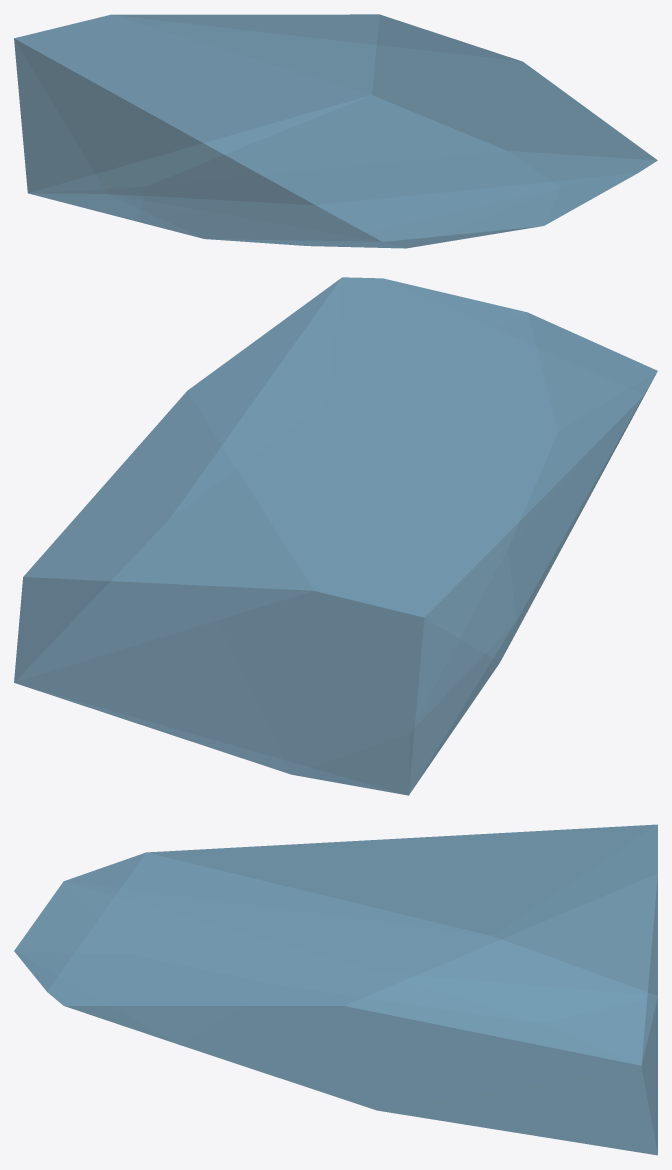
3 renders of one model, top to bottom at view 1: azimuth 30°, elevation 25°; view 2: azimuth 150°, elevation 25°; view 3: azimuth 270°, elevation 25°, orthographic. The views are drawn at different scales.
Visible parts, largest first — view 1: Shape_IndexedFaceSet.029_Shape_IndexedFaceSet.627; view 2: Shape_IndexedFaceSet.029_Shape_IndexedFaceSet.627; view 3: Shape_IndexedFaceSet.029_Shape_IndexedFaceSet.627.
Part boxes in pixels (x1,y1,x2,y2): Shape_IndexedFaceSet.029_Shape_IndexedFaceSet.627: [14, 14, 657, 248]; Shape_IndexedFaceSet.029_Shape_IndexedFaceSet.627: [14, 277, 657, 795]; Shape_IndexedFaceSet.029_Shape_IndexedFaceSet.627: [14, 824, 657, 1155].
Bounding box in the file's own units: 0.0484 × 0.0224 × 0.0727.
